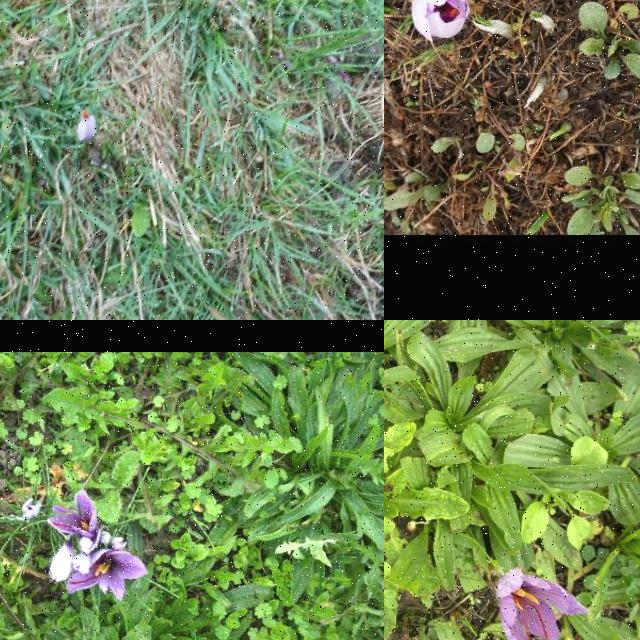flower: (499, 570, 588, 640), (411, 0, 468, 44), (77, 110, 97, 142)
overlap: (46, 490, 150, 602)
